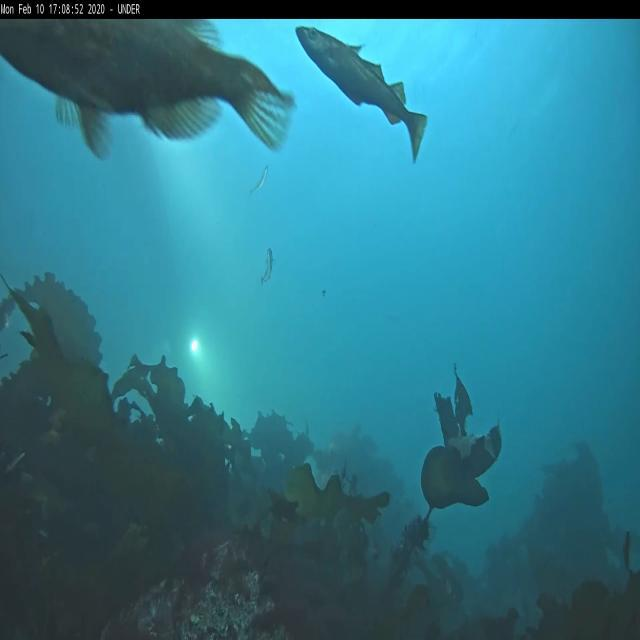fish: (1, 20, 297, 160), (296, 25, 428, 165), (250, 164, 270, 198), (260, 247, 274, 286)
